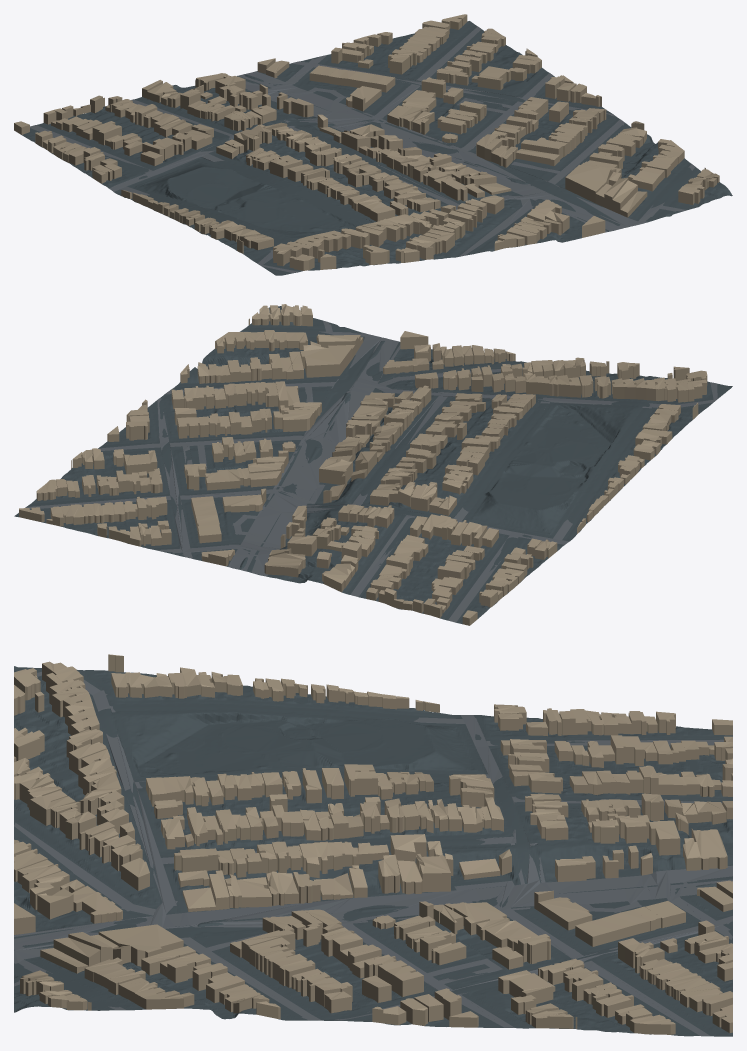
The model's file is epsg26910-1441-10875.lod0.glb.
3 views of the same model, one above another, from view 1: azimuth 30°, elevation 25°; view 2: azimuth 150°, elevation 25°; view 3: azimuth 270°, elevation 25° (orthographic). The views are drawn at different scales.
Parts seen in each view (by area): view 1: epsg26910-1441-10875-lod0; view 2: epsg26910-1441-10875-lod0; view 3: epsg26910-1441-10875-lod0.
Part boxes in pixels (bbox=[...]): epsg26910-1441-10875-lod0: bbox=[14, 14, 732, 275]; epsg26910-1441-10875-lod0: bbox=[14, 304, 732, 625]; epsg26910-1441-10875-lod0: bbox=[14, 654, 732, 1036].
Size of the model in its own units: 384 by 47.37 by 384.
